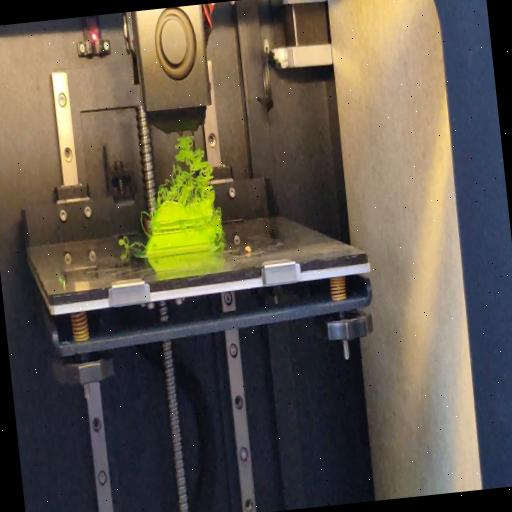spaghetti: (148, 133, 220, 210), (116, 235, 145, 253), (138, 206, 152, 242), (216, 238, 222, 248)
